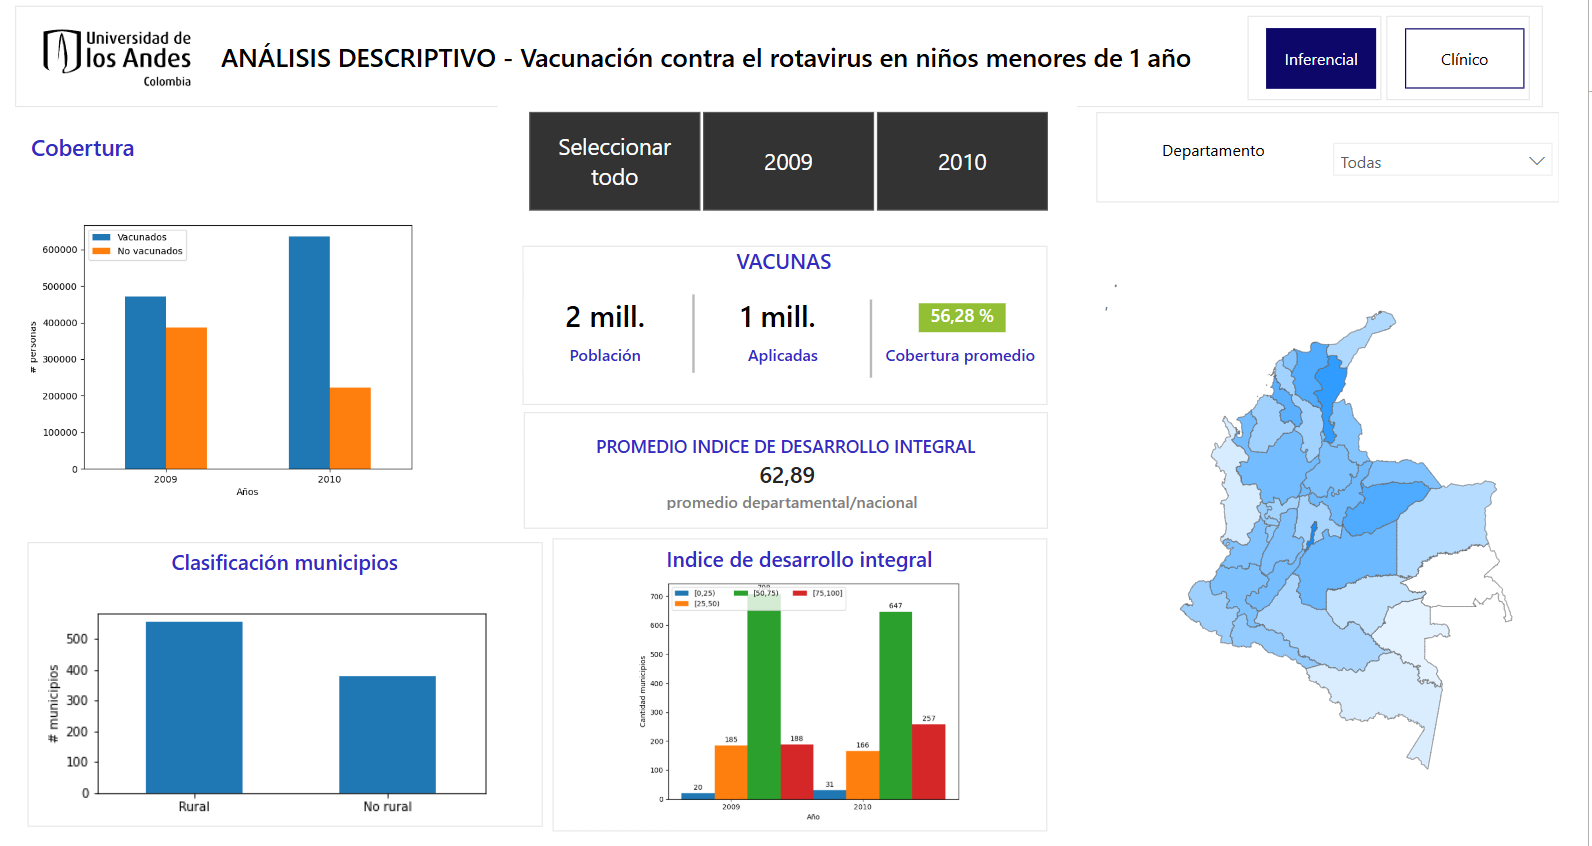

The dashboard page shown, as its layout file describes it:
{"tool":"powerbi","page":{"name":"Página 1","canvas":[1280,720],"ordinal":0},"visuals":[{"type":"group","id":"g1","title":"Group 1","box":[0,16,1264,80],"z":0},{"type":"shape","title":"null","box":[0,16,1266,84],"z":0,"group":"g1"},{"type":"image","box":[8,19,152,80],"z":0,"group":"g4"},{"type":"actionButton","box":[1036.3,33.9,91,50],"z":0,"group":"g6"},{"type":"actionButton","box":[1151.5,33.9,99,50],"z":0,"group":"g7"},{"type":"shape","title":"null","box":[896,104,384,75],"z":0,"group":"g10"},{"type":"slicer","fields":{"Values":["dimlugar.departamento"]},"box":[1088,125,191,33],"z":0,"group":"g2"},{"type":"shape","title":"null","box":[420.9,214,435,132],"z":0,"group":"g8"},{"type":"shape","title":"null","box":[421.9,352,434,97],"z":0,"group":"g12"},{"type":"shape","box":[423.9,370,430,20],"z":0,"group":"g3"},{"type":"shape","box":[487.9,417.8,312,16.2],"z":0,"group":"g5"},{"type":"shape","title":"null","box":[445.9,457,410,243],"z":0,"group":"g11"},{"type":"shape","title":"null","box":[10.9,460,427,236],"z":0,"group":"g9"},{"type":"pythonVisual","title":"Title goes here","fields":{"Values":["dimfecha.fecha","factmetricasdesarrollo.indiceintegral","dimlugar.codigomunicipio","dimlugar.departamento"]},"box":[446.9,488,407,210],"z":5,"group":"g11"},{"type":"pythonVisual","title":"Title goes here","fields":{"Values":["factmetricasdesarrollo.clasificacionruralprimaria","dimlugar.codigomunicipio"]},"box":[11.9,491,424,203],"z":5,"group":"g9"},{"type":"shape","title":"null","box":[898,125,190,20],"z":10,"group":"g2"},{"type":"shape","box":[11.9,461,424,30],"z":60,"group":"g9"},{"type":"group","id":"g2","title":"Group 1","box":[897,124,381,35],"z":70,"group":"g10"},{"type":"shape","box":[446.9,458,407,30],"z":80,"group":"g11"},{"type":"group","id":"g3","title":"Group 1","box":[423.9,370,430,64],"z":90,"group":"g12"},{"type":"group","id":"g4","title":"Group 1","box":[8,19,1258,80],"z":1000,"group":"g1"},{"type":"shape","title":"null","box":[1020.8,23.5,111,70],"z":1000},{"type":"shape","box":[160,43,1106,30],"z":1000,"group":"g4"},{"type":"shape","box":[421.9,215,431,20],"z":1000,"group":"g8"},{"type":"group","id":"g5","title":"Group 1","box":[487.9,394,312,40],"z":1000,"group":"g3"},{"type":"card","fields":{"Values":["Avg(factmetricasdesarrollo.indiceintegral)"]},"box":[575.9,394,128,24],"z":1000,"group":"g5"},{"type":"shape","title":"null","box":[1136,23.5,119,70],"z":2000},{"type":"shape","box":[421.9,289,135,30],"z":2000,"group":"g8"},{"type":"group","id":"g6","title":"Group 1","box":[1036.3,33.9,91,50],"z":3000},{"type":"shape","box":[568.9,289,135,30],"z":3000,"group":"g8"},{"type":"group","id":"g7","title":"Group 1","box":[1151.5,33.9,99,50],"z":4000},{"type":"shape","box":[715.9,289,135,30],"z":4000,"group":"g8"},{"type":"group","id":"g8","title":"Group 1","box":[420.9,214,435,132],"z":5000},{"type":"card","fields":{"Values":["Sum(factvacuna.poblacion)"]},"box":[421.9,259,135,30],"z":5000,"group":"g8"},{"type":"shape","box":[556.9,254,12,65],"z":6000,"group":"g8"},{"type":"group","id":"g9","title":"Group 1","box":[10.9,460,427,236],"z":6000},{"type":"group","id":"g10","title":"Group 1","box":[896,104,384,75],"z":7000},{"type":"card","fields":{"Values":["Sum(factvacuna.dosisaplicadas)"]},"box":[564.9,262,136,24],"z":7000,"group":"g8"},{"type":"shape","box":[703.9,259,12,65],"z":8000,"group":"g8"},{"type":"group","id":"g11","title":"Group 1","box":[445.9,457,410,243],"z":8000},{"type":"card","fields":{"Values":["Avg(factvacuna.cobertura)"]},"box":[748.9,262,72,24],"z":9000,"group":"g8"},{"type":"group","id":"g12","title":"Group 1","box":[421.9,352,434,97],"z":9000},{"type":"shapeMap","fields":{"Value":["Avg(factvacuna.cobertura)"],"Category":["dimlugar.departamento"]},"box":[880,192,384,512],"z":10000},{"type":"pythonVisual","title":"Cobertura","fields":{"Values":["dimlugar.departamento","factvacuna.cobertura","factvacuna.poblacion","dimfecha.fecha"]},"box":[8,120,360,328],"z":11000},{"type":"slicer","title":"Año","fields":{"Values":["dimfecha.fecha"]},"box":[400,96,480,96],"z":12000}]}

Visuals, with their boxes on the page's 1280x720 design canvas (x1, y1, x2, y2). These are canvas units, not pixel positions in the 1592x846 screenshot, which may show the page scaled, cropped or inside an application window:
"Group 1" group: x1=0 y1=16 x2=1264 y2=96
"null" shape: x1=0 y1=16 x2=1266 y2=100
image: x1=8 y1=19 x2=160 y2=99
actionButton: x1=1036 y1=34 x2=1127 y2=84
actionButton: x1=1152 y1=34 x2=1250 y2=84
"null" shape: x1=896 y1=104 x2=1280 y2=179
slicer - dimlugar.departamento: x1=1088 y1=125 x2=1279 y2=158
"null" shape: x1=421 y1=214 x2=856 y2=346
"null" shape: x1=422 y1=352 x2=856 y2=449
shape: x1=424 y1=370 x2=854 y2=390
shape: x1=488 y1=418 x2=800 y2=434
"null" shape: x1=446 y1=457 x2=856 y2=700
"null" shape: x1=11 y1=460 x2=438 y2=696
"Title goes here" pythonVisual: x1=447 y1=488 x2=854 y2=698
"Title goes here" pythonVisual: x1=12 y1=491 x2=436 y2=694
"null" shape: x1=898 y1=125 x2=1088 y2=145
shape: x1=12 y1=461 x2=436 y2=491
"Group 1" group: x1=897 y1=124 x2=1278 y2=159
shape: x1=447 y1=458 x2=854 y2=488
"Group 1" group: x1=424 y1=370 x2=854 y2=434
"Group 1" group: x1=8 y1=19 x2=1266 y2=99
"null" shape: x1=1021 y1=24 x2=1132 y2=94
shape: x1=160 y1=43 x2=1266 y2=73
shape: x1=422 y1=215 x2=853 y2=235
"Group 1" group: x1=488 y1=394 x2=800 y2=434
card - Avg(factmetricasdesarrollo.indiceintegral): x1=576 y1=394 x2=704 y2=418
"null" shape: x1=1136 y1=24 x2=1255 y2=94
shape: x1=422 y1=289 x2=557 y2=319
"Group 1" group: x1=1036 y1=34 x2=1127 y2=84
shape: x1=569 y1=289 x2=704 y2=319
"Group 1" group: x1=1152 y1=34 x2=1250 y2=84
shape: x1=716 y1=289 x2=851 y2=319
"Group 1" group: x1=421 y1=214 x2=856 y2=346
card - Sum(factvacuna.poblacion): x1=422 y1=259 x2=557 y2=289
shape: x1=557 y1=254 x2=569 y2=319
"Group 1" group: x1=11 y1=460 x2=438 y2=696
"Group 1" group: x1=896 y1=104 x2=1280 y2=179
card - Sum(factvacuna.dosisaplicadas): x1=565 y1=262 x2=701 y2=286
shape: x1=704 y1=259 x2=716 y2=324
"Group 1" group: x1=446 y1=457 x2=856 y2=700
card - Avg(factvacuna.cobertura): x1=749 y1=262 x2=821 y2=286
"Group 1" group: x1=422 y1=352 x2=856 y2=449
shapeMap - Avg(factvacuna.cobertura) x dimlugar.departamento: x1=880 y1=192 x2=1264 y2=704
"Cobertura" pythonVisual: x1=8 y1=120 x2=368 y2=448
"Año" slicer: x1=400 y1=96 x2=880 y2=192
